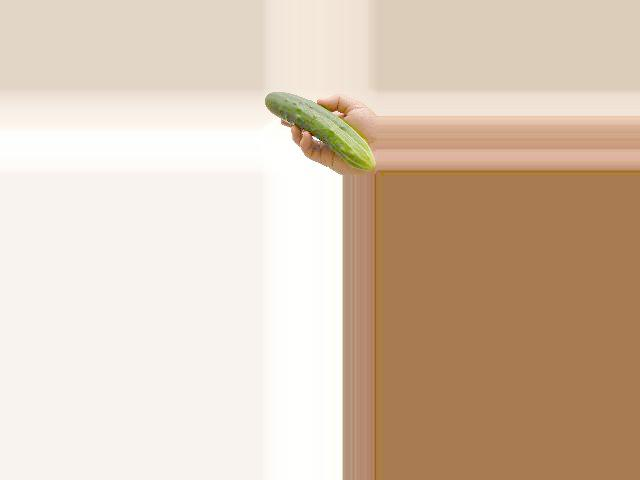cucumber: (264, 92, 374, 171)
